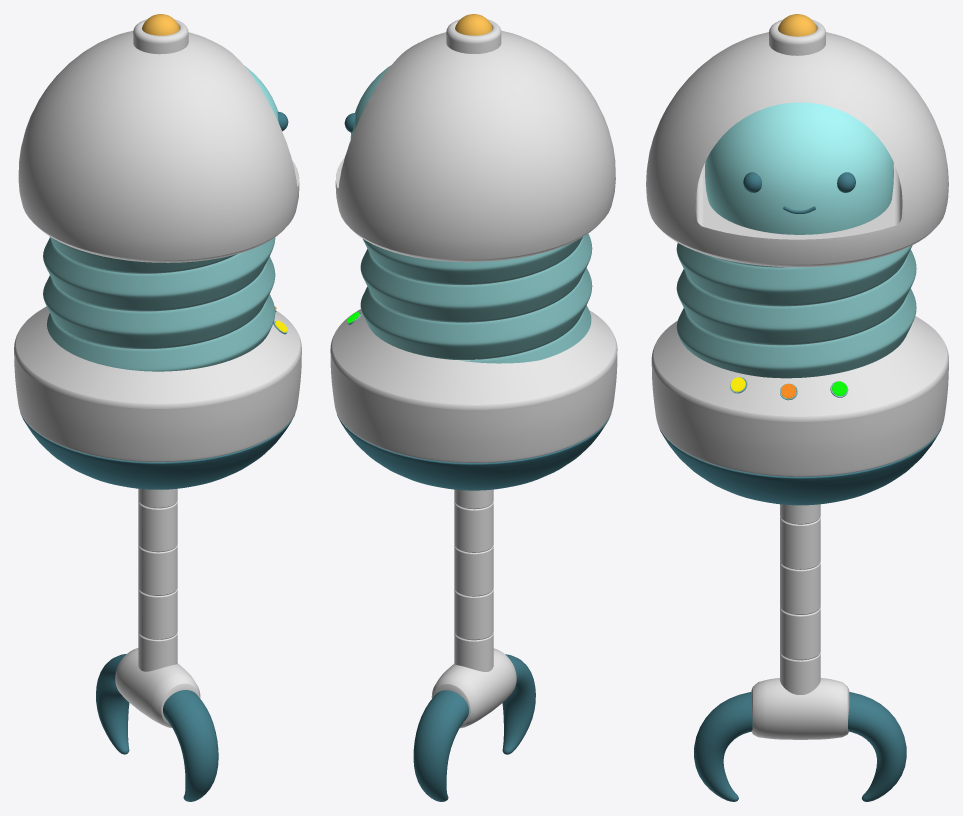
Rendered from hack-robot.glb.
The picture shows the model from 3 angles, left to right: view 1: azimuth 30°, elevation 25°; view 2: azimuth 150°, elevation 25°; view 3: azimuth 270°, elevation 25°; orthographic projection. The views are drawn at different scales.
Visible parts, largest first — view 1: Default; view 2: Default; view 3: Default.
Part boxes in pixels (<box>): Default: <box>14,14,301,801</box>; Default: <box>330,14,617,801</box>; Default: <box>646,14,948,801</box>.
Size of the model in its own units: 0.7671 by 2.24 by 0.7818.
1 material, 1 textured.
